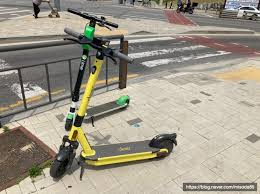guide_blocks: (213, 67, 260, 80), (97, 30, 128, 34)
kick_board: (51, 27, 176, 176)
kick_body: (92, 140, 149, 162)
kick_handler: (63, 29, 132, 61), (67, 9, 118, 28)
kick_neck: (69, 47, 85, 101)
kick_wheel: (152, 133, 175, 157), (51, 154, 72, 176), (64, 115, 72, 130), (120, 95, 130, 106)
